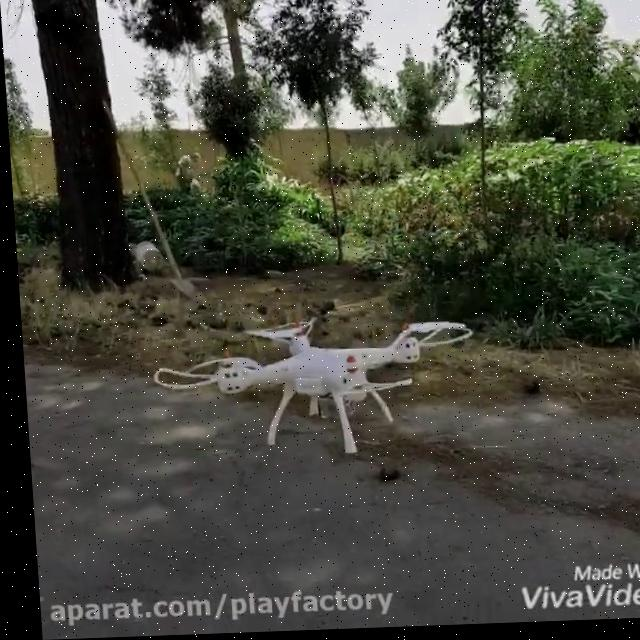drone: (144, 312, 475, 463)
